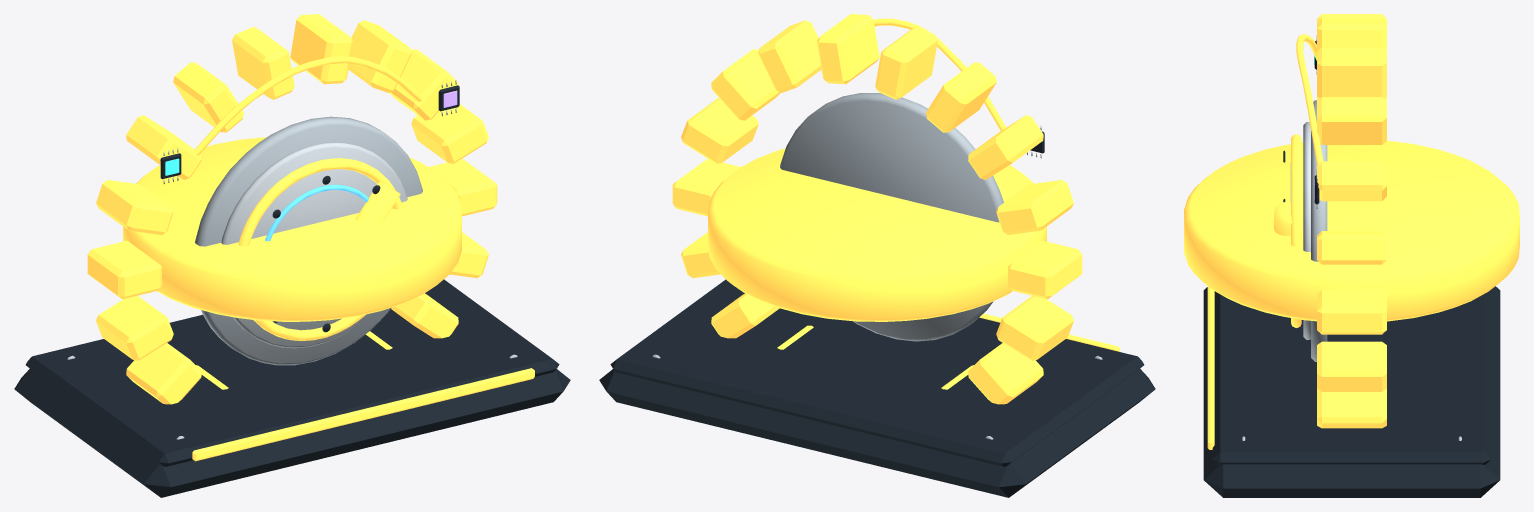
Rendered from Artifact_Agreement.glb.
The picture shows the model from 3 angles, left to right: view 1: azimuth 30°, elevation 25°; view 2: azimuth 150°, elevation 25°; view 3: azimuth 270°, elevation 25°; orthographic projection.
Parts seen in each view (by area): view 1: Artifact_Agreement_Body; view 2: Artifact_Agreement_Body; view 3: Artifact_Agreement_Body.
Part boxes in pixels (<box>): Artifact_Agreement_Body: <box>14,14,570,497</box>; Artifact_Agreement_Body: <box>599,14,1155,497</box>; Artifact_Agreement_Body: <box>1184,14,1519,497</box>.
Size of the model in its own units: 2.24 by 1.98 by 1.54.
